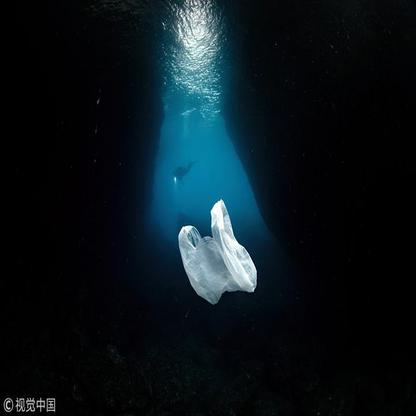plastic bag: (177, 198, 257, 305)
